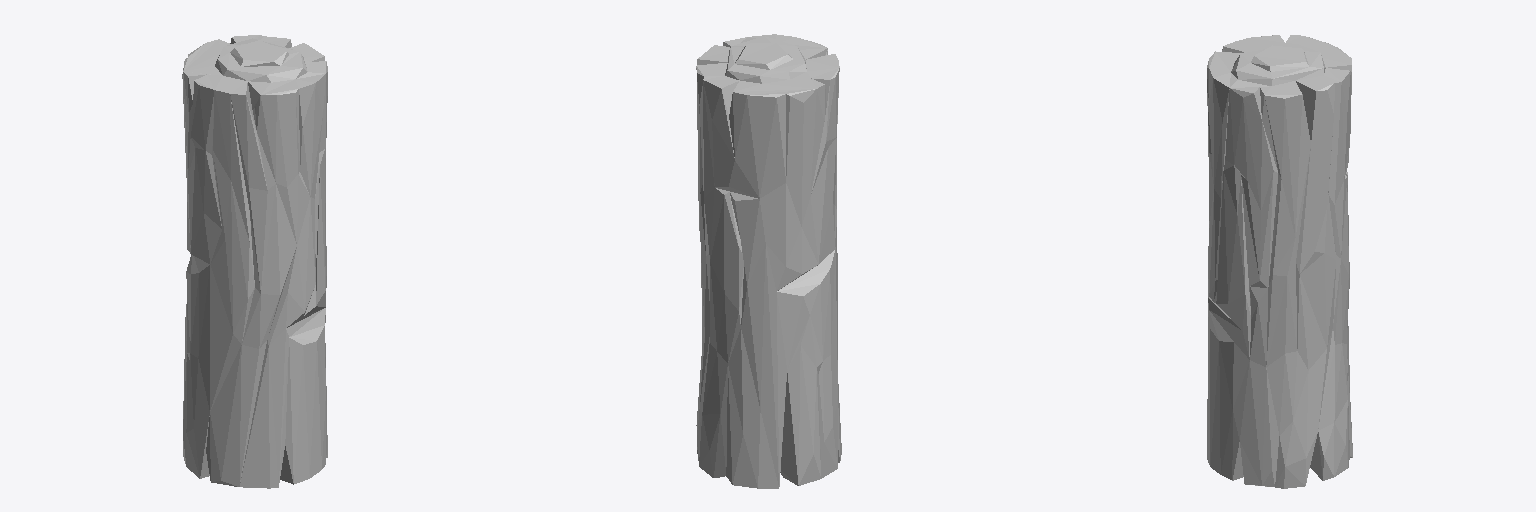
Rendered from log1_01.obj.
3 views of the same model, side by side, from view 1: azimuth 30°, elevation 25°; view 2: azimuth 150°, elevation 25°; view 3: azimuth 270°, elevation 25° (orthographic).
Visible parts, largest first — view 1: poleno1_low2; view 2: poleno1_low2; view 3: poleno1_low2.
Part boxes in pixels (x1,y1,x2,y2): poleno1_low2: (182,35,327,488); poleno1_low2: (696,34,841,488); poleno1_low2: (1207,35,1352,488).
Size of the model in its own units: 0.7995 by 2.44 by 0.7979.